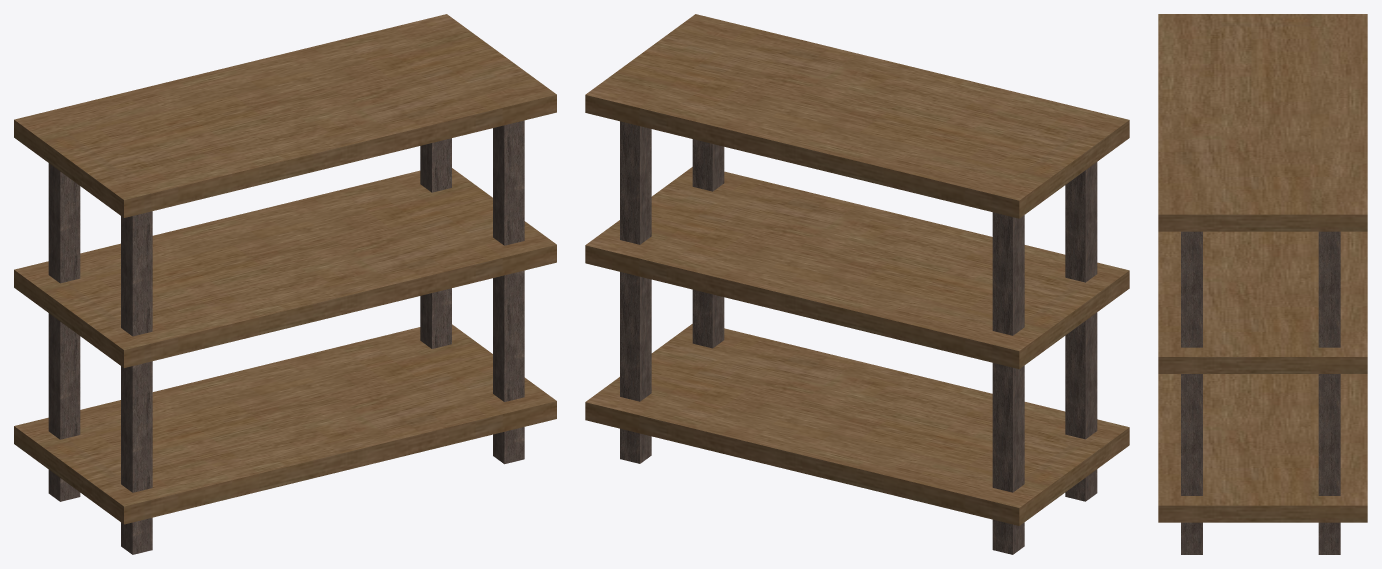
The model's file is display.glb.
3 views of the same model, side by side, from view 1: azimuth 30°, elevation 25°; view 2: azimuth 150°, elevation 25°; view 3: azimuth 270°, elevation 25° (orthographic). The views are drawn at different scales.
Visible parts, largest first — view 1: Cube.182; view 2: Cube.182; view 3: Cube.182.
Part boxes in pixels (x1,y1,x2,y2): Cube.182: [14, 14, 556, 554]; Cube.182: [585, 14, 1129, 554]; Cube.182: [1158, 14, 1367, 554].
Bounding box in the file's own units: 2.47 × 2.01 × 1.09.
Materials: 2 (2 with a texture image).
